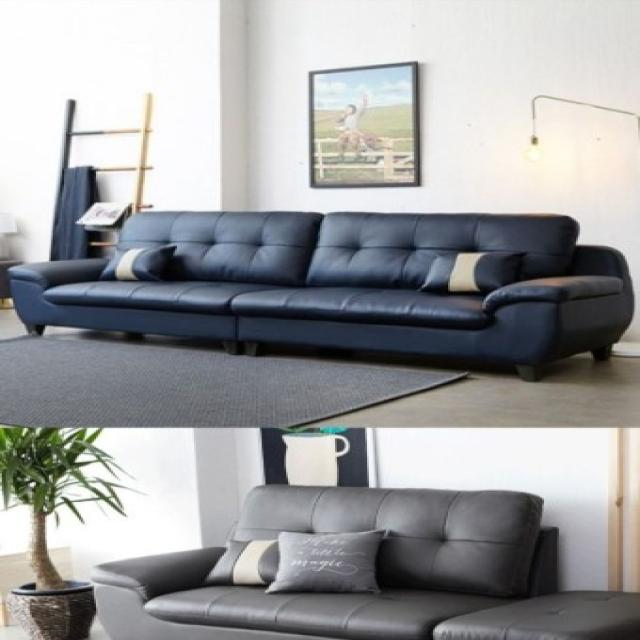Sofa: (9, 194, 624, 381), (82, 470, 602, 635)
